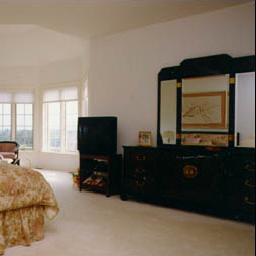Cama: (6, 157, 51, 245)
Electrodomestico: (76, 118, 116, 153)
